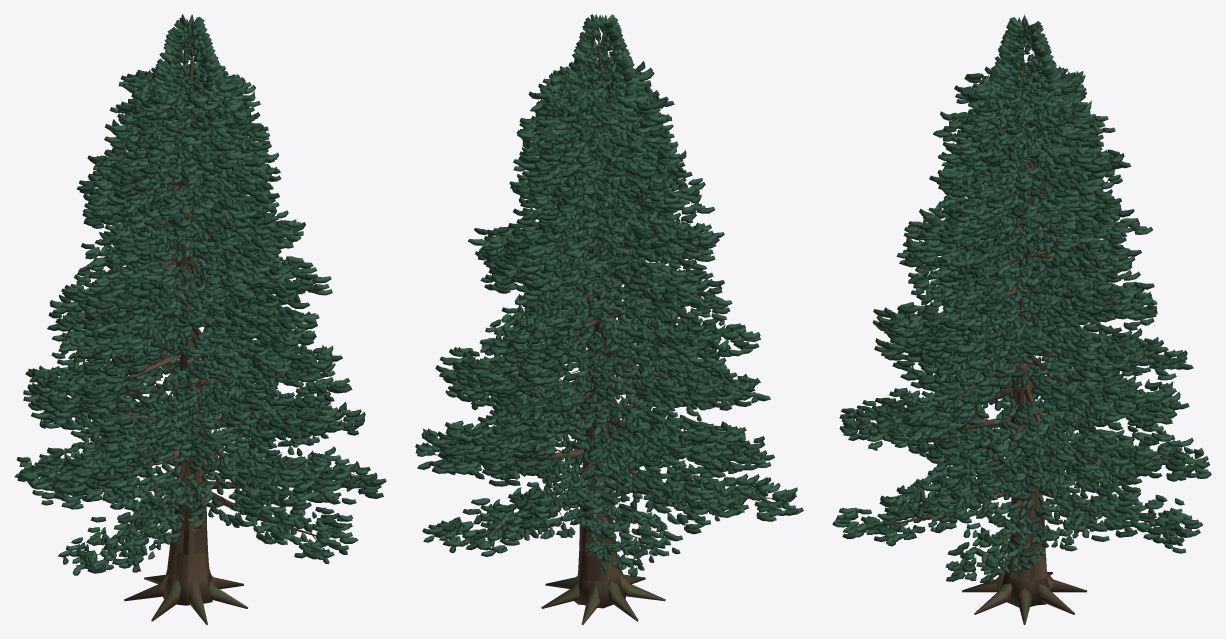
Rendered from forest-cedar-0.glb.
The picture shows the model from 3 angles, left to right: view 1: azimuth 30°, elevation 25°; view 2: azimuth 150°, elevation 25°; view 3: azimuth 270°, elevation 25°; orthographic projection.
Visible parts, largest first — view 1: forest-cedar-0/1, forest-cedar-0/0; view 2: forest-cedar-0/1, forest-cedar-0/0; view 3: forest-cedar-0/1, forest-cedar-0/0.
Boxes of the visible parts, left/top/right/bottom form: forest-cedar-0/1: left=14, top=14, right=386, bottom=575; forest-cedar-0/0: left=57, top=40, right=354, bottom=624; forest-cedar-0/1: left=415, top=14, right=803, bottom=577; forest-cedar-0/0: left=432, top=37, right=772, bottom=624; forest-cedar-0/1: left=832, top=14, right=1211, bottom=584; forest-cedar-0/0: left=865, top=44, right=1182, bottom=624.
Size of the model in its own units: 9.01 by 15.21 by 9.04.
